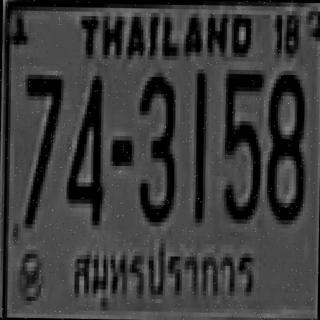N01: (192, 71, 205, 220)
N03: (135, 72, 176, 222)
N04: (63, 71, 104, 221)
N05: (221, 65, 262, 219)
N07: (23, 70, 61, 224)
N08: (264, 70, 305, 220)
P57: (61, 235, 263, 312)
